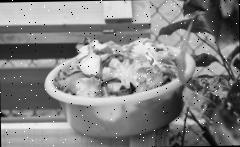organic: (107, 57, 143, 87), (82, 40, 103, 76)
